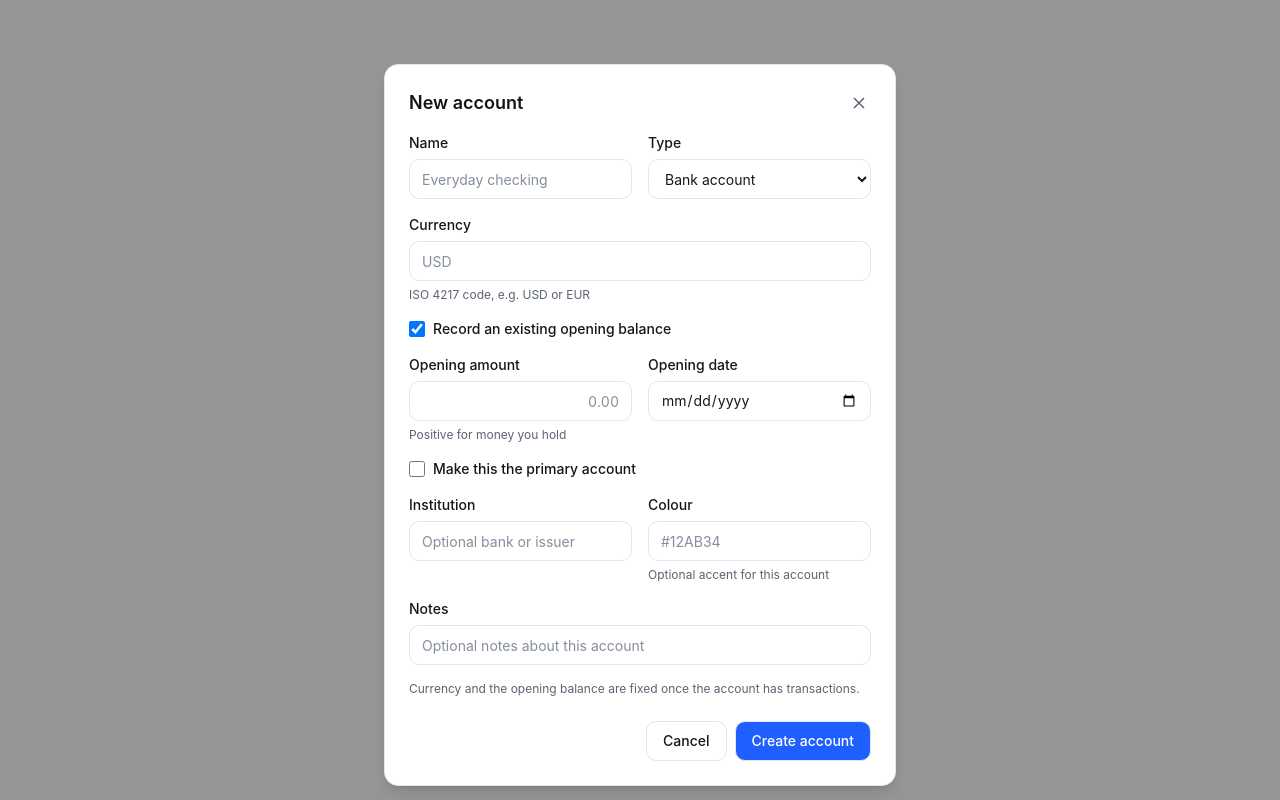
Test: AccountFormModal › surfaces backend field errors on the form without a generic toast
Type "Check-in" into the field labelled "Name" at (520,179), box [409,159,632,199]
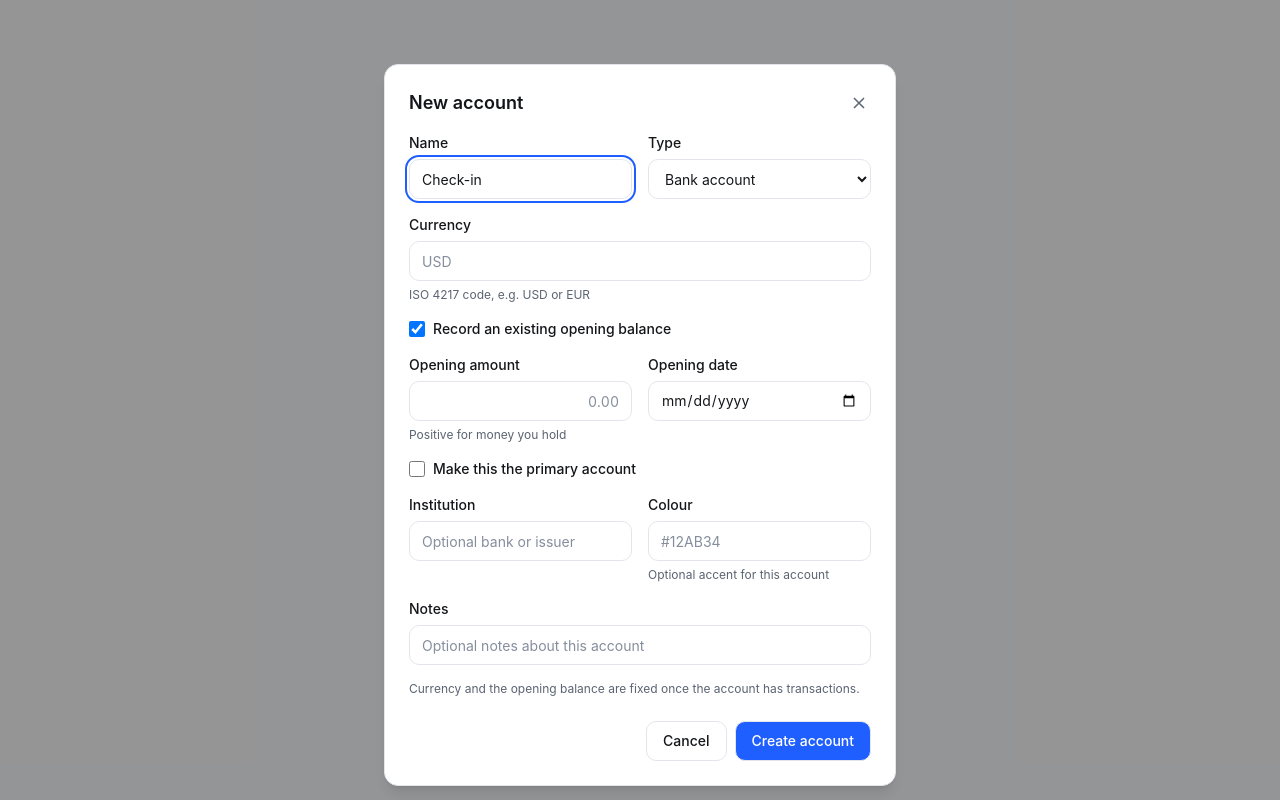
Type "INR" into the field labelled "Currency" at (640,261), box [409,241,871,281]
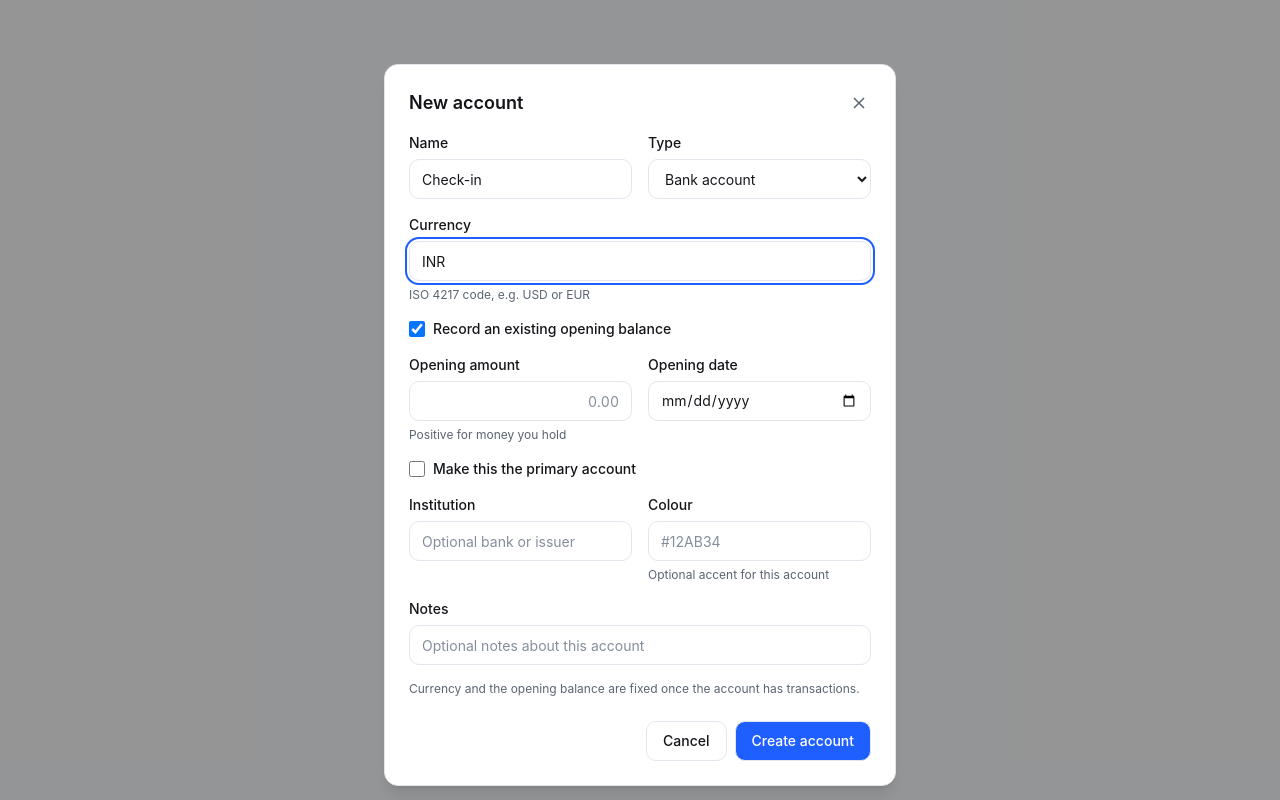
Type "0" into the field labelled "Opening amount" at (520,401), box [409,381,632,421]
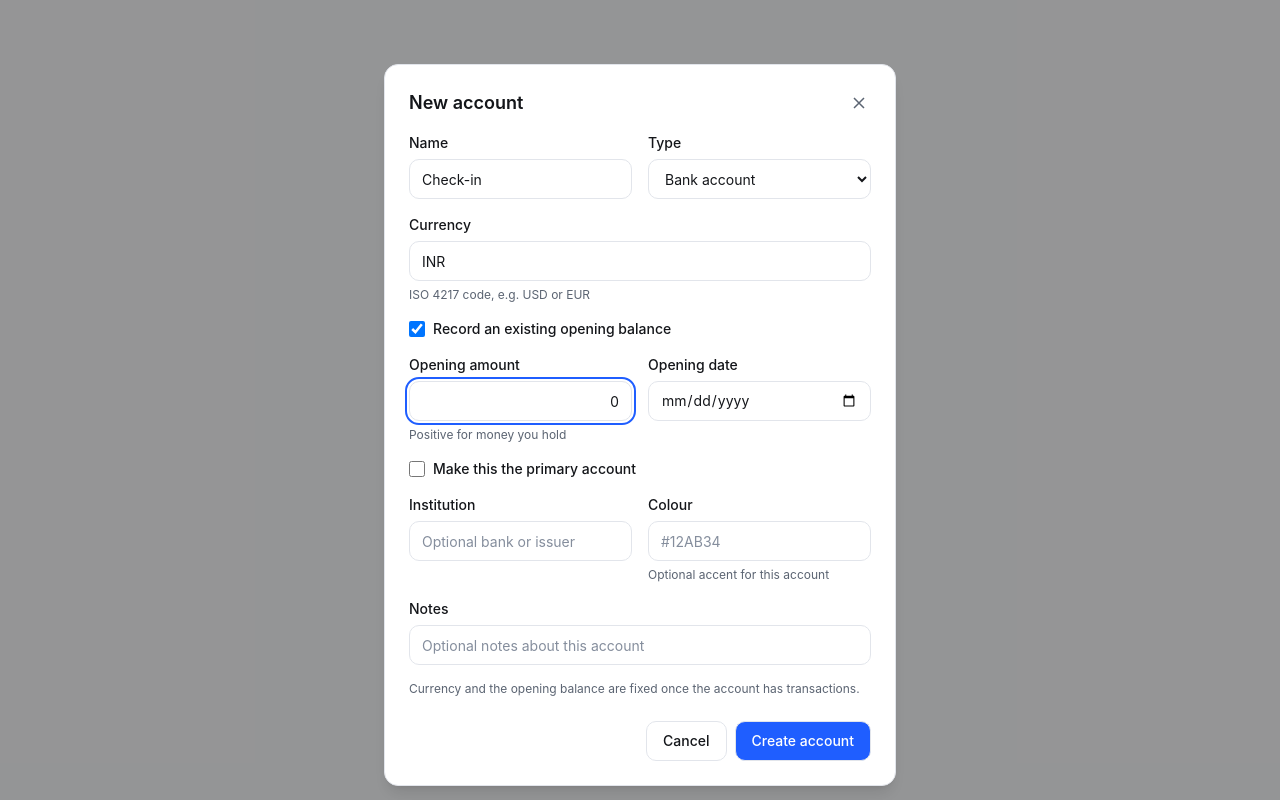
Click the button "Create account" at (803,741), box [734,721,871,761]
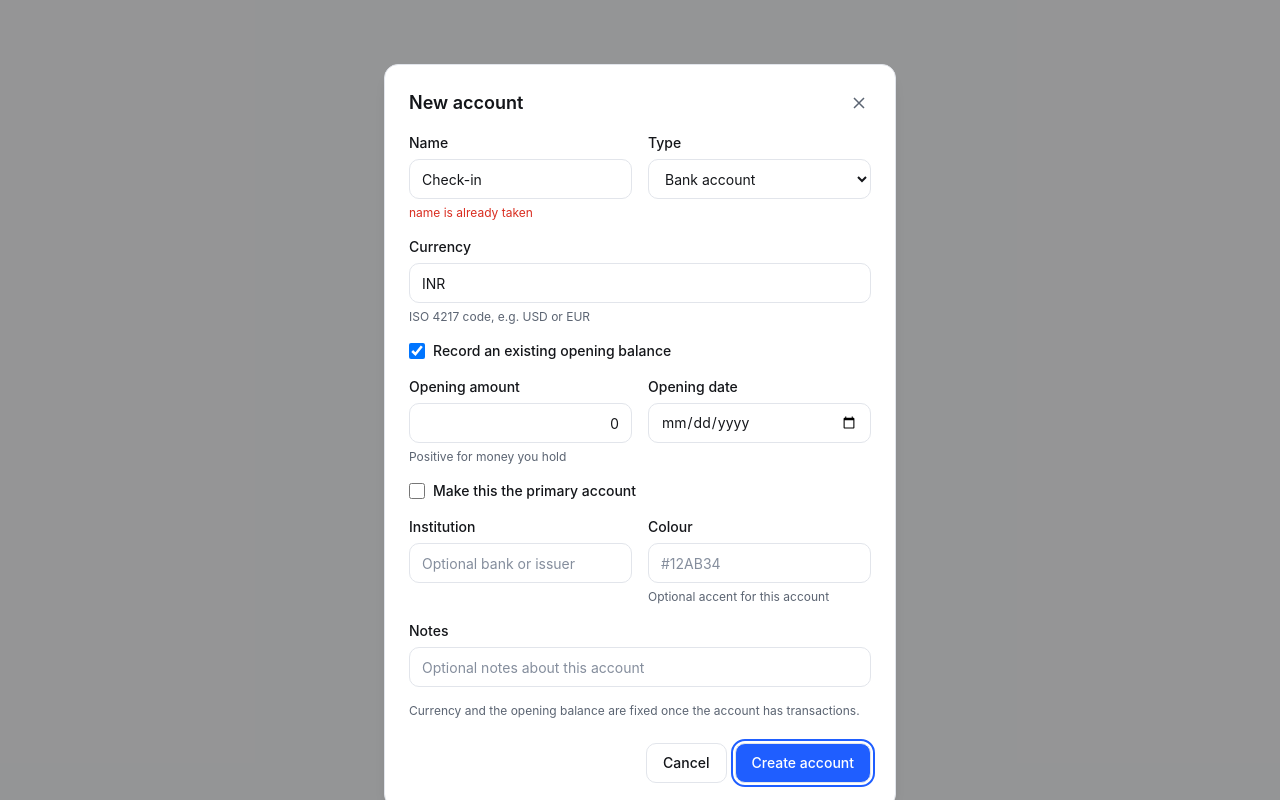
expect the text "name is already taken" is shown: met, box [409,205,533,220]
